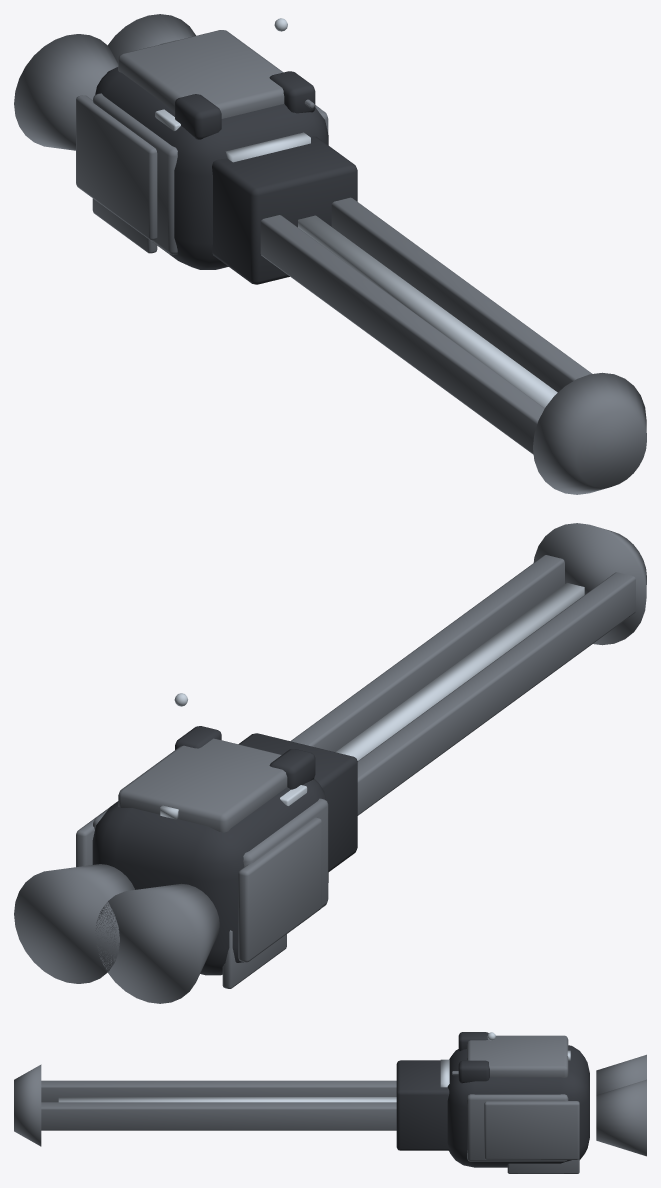
Rendered from weapon_drone_railstorm.glb.
3 views of the same model, one above another, from view 1: azimuth 30°, elevation 25°; view 2: azimuth 150°, elevation 25°; view 3: azimuth 270°, elevation 25° (orthographic). The views are drawn at different scales.
Parts seen in each view (by area): view 1: weapon_drone_railstorm; view 2: weapon_drone_railstorm; view 3: weapon_drone_railstorm.
Boxes of the visible parts, x1=… form: weapon_drone_railstorm: x1=14, y1=14, x2=646, y2=494; weapon_drone_railstorm: x1=14, y1=523, x2=646, y2=1003; weapon_drone_railstorm: x1=14, y1=1032, x2=646, y2=1173.
Bounding box in the file's own units: 0.696 × 0.7692 × 3.24.
